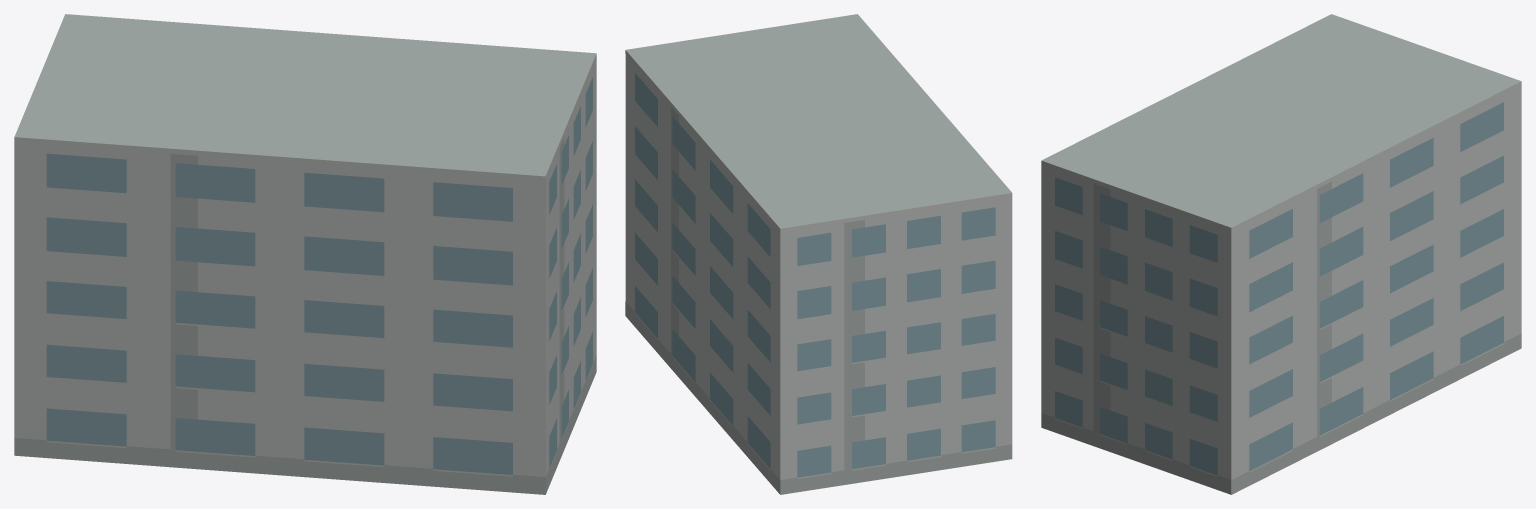
Rendered from residential-68d677b3-1595-43d6-9ec3-13e285349613.glb.
3 renders of one model, left to right at view 1: azimuth 30°, elevation 25°; view 2: azimuth 150°, elevation 25°; view 3: azimuth 270°, elevation 25°, orthographic. The views are drawn at different scales.
Parts seen in each view (by area): view 1: residential-68d677b3-1595-43d6-9ec3-13e285349613.tmp; view 2: residential-68d677b3-1595-43d6-9ec3-13e285349613.tmp; view 3: residential-68d677b3-1595-43d6-9ec3-13e285349613.tmp.
Boxes of the visible parts, <box> form: residential-68d677b3-1595-43d6-9ec3-13e285349613.tmp: <box>14,14,596,494</box>; residential-68d677b3-1595-43d6-9ec3-13e285349613.tmp: <box>625,14,1012,494</box>; residential-68d677b3-1595-43d6-9ec3-13e285349613.tmp: <box>1041,14,1521,494</box>.
Bounding box in the file's own units: 26.19 × 15.25 × 24.87.
